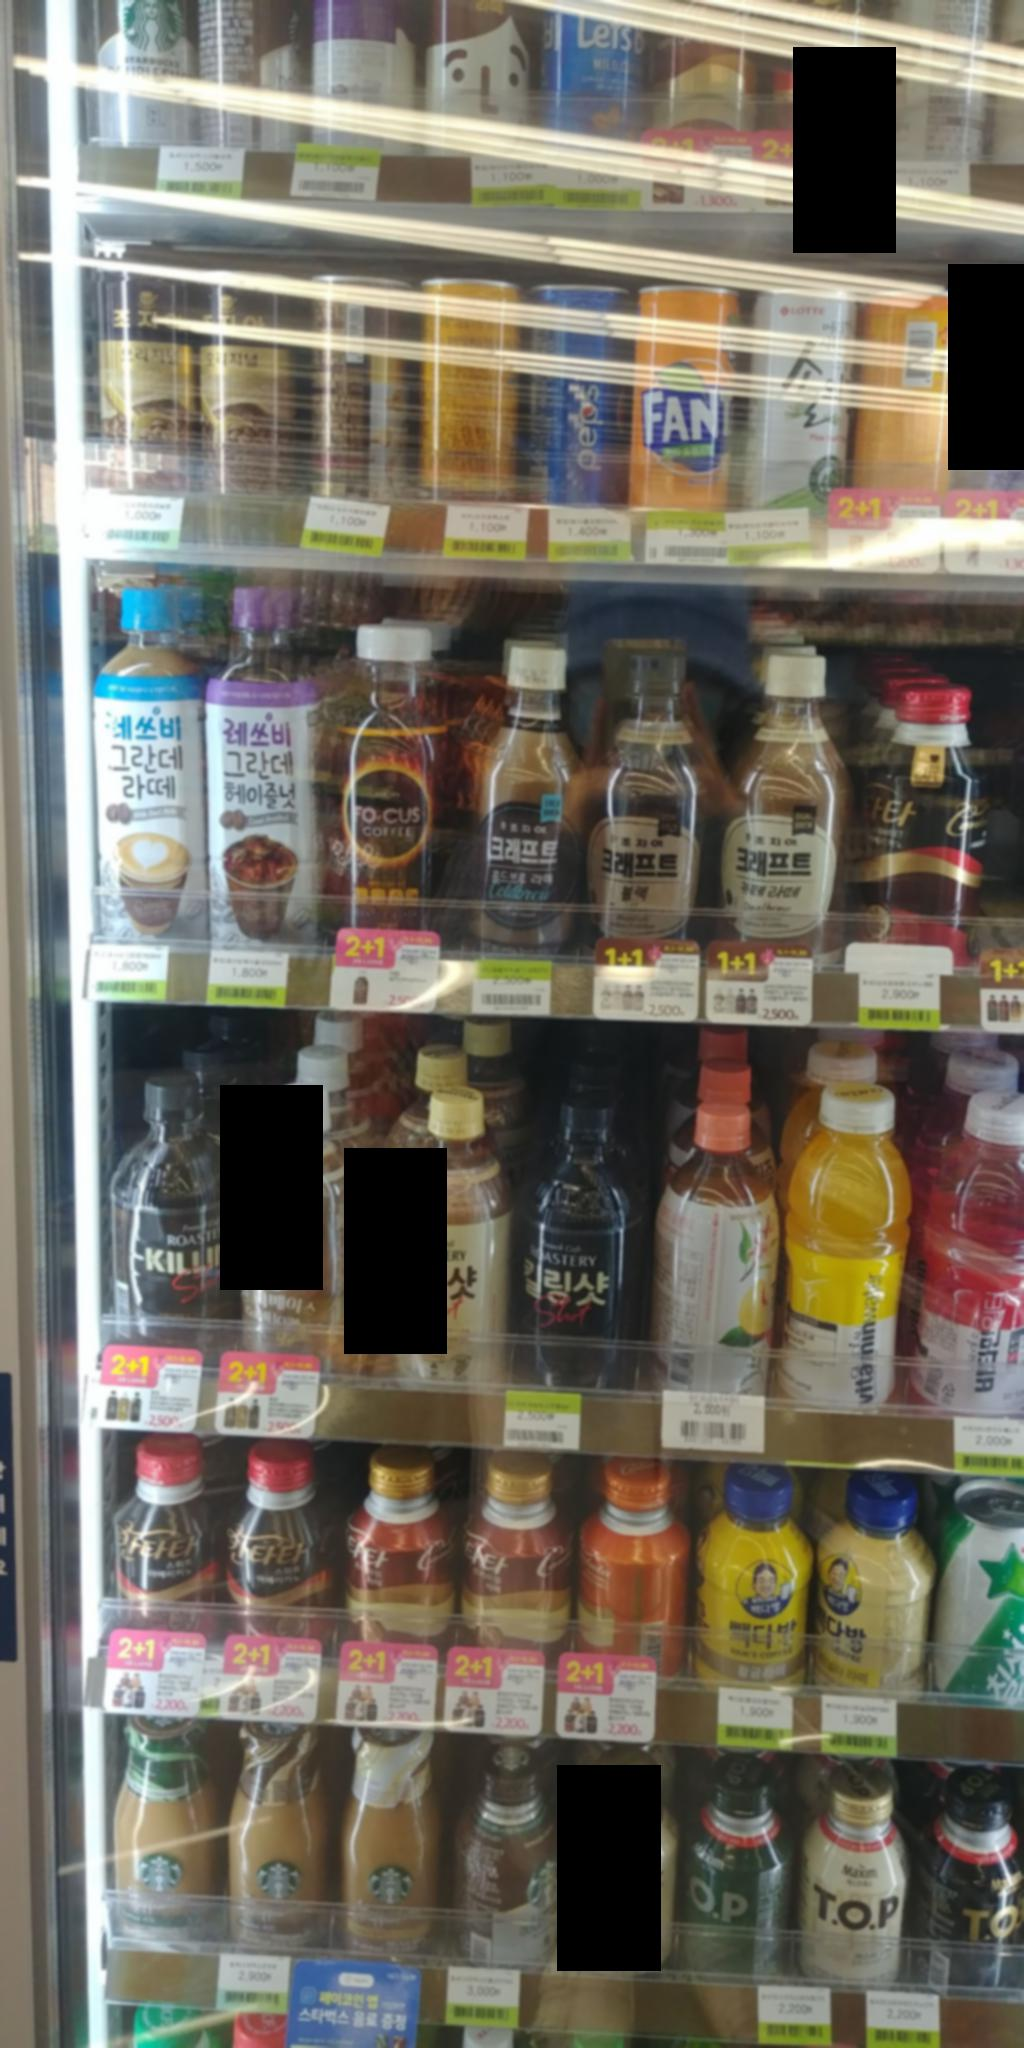TOP_black: (921, 1755, 1023, 2011)
georgiacraft_black: (576, 637, 708, 963)
letsbe: (542, 0, 657, 150)
letsbe_grande_hazelnut: (208, 566, 337, 963)
